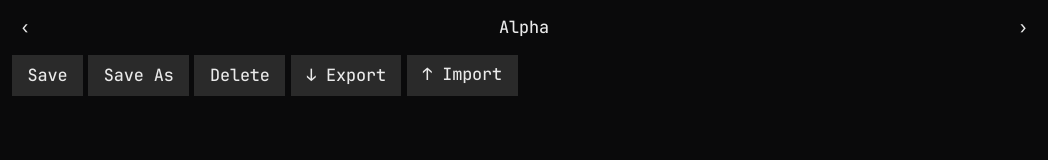
Test: Task DR-8.5: PresetStrip — chevron cycling › Next chevron advances + loads the next preset
Click the button named "Next preset": x=1023, y=27 [1010,14,1036,40]
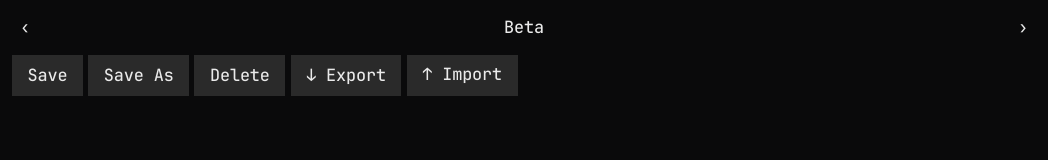
Check: the field with test id "preset-name" holds "Beta", box [48,10,1000,44]
